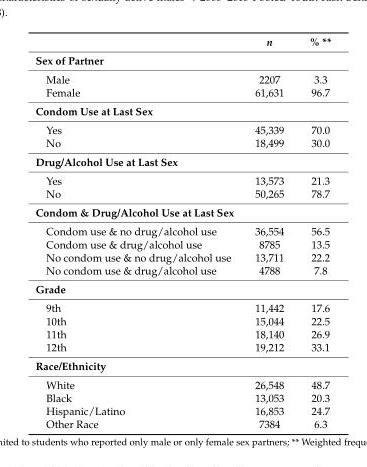table: (34, 34, 330, 430)
table column: (34, 34, 243, 430), (243, 34, 296, 430), (296, 34, 330, 430)
table column header: (34, 34, 330, 50)
table projected row header: (34, 50, 330, 69), (34, 101, 330, 120), (34, 202, 330, 221), (34, 279, 330, 298), (34, 356, 330, 375), (34, 152, 330, 170)
table row: (34, 50, 330, 69), (34, 101, 330, 120), (34, 202, 330, 221), (34, 279, 330, 298), (34, 356, 330, 375), (34, 152, 330, 170), (34, 34, 330, 50), (34, 69, 330, 85), (34, 85, 330, 101), (34, 120, 330, 136), (34, 136, 330, 152), (34, 170, 330, 186), (34, 186, 330, 202), (34, 221, 330, 237), (34, 263, 330, 279), (34, 298, 330, 314), (34, 340, 330, 356), (34, 375, 330, 390), (34, 403, 330, 417), (34, 237, 330, 250), (34, 250, 330, 263), (34, 314, 330, 327), (34, 327, 330, 340), (34, 390, 330, 403), (34, 417, 330, 430)
